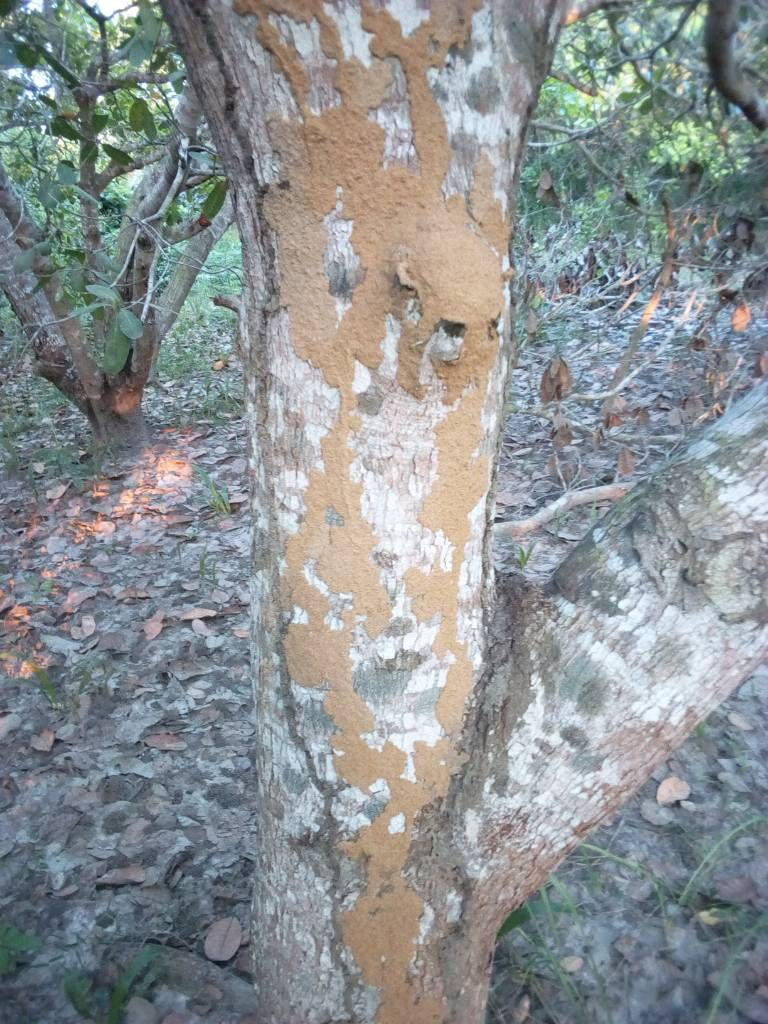Termites: (266, 1, 504, 1024)
